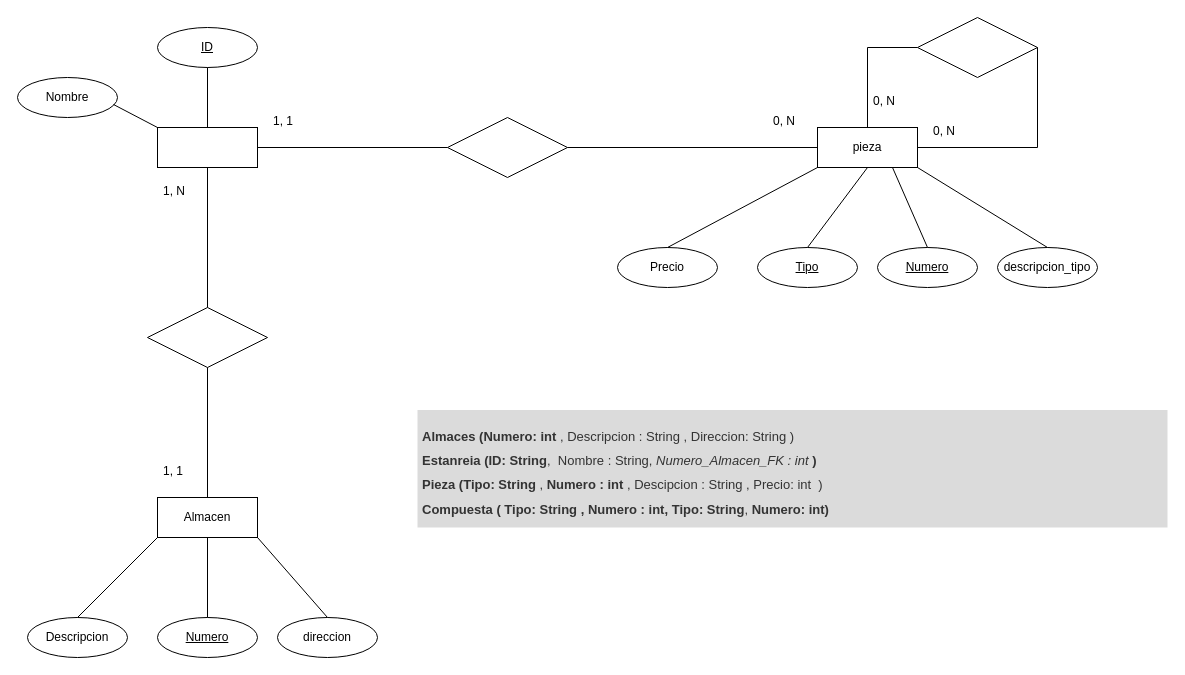
Some shapes in this 1185 by 675 pixel diagram are drawn without their labels. Here are the shapes that lost their labels. From the top down, the centre of each, then its label:
At point 977,47: "Compuesta".
At point 207,147: "Estanteria".
At point 507,147: "Guardar".
At point 207,337: "Ubicar".
